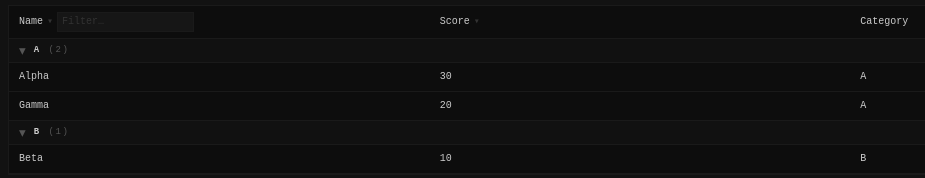
Test: DataGrid groupBy › collapses and expands groups
Check: the text "Alpha" is shown, box [9,63,430,92]
// Collapse group A
Click the 1st button "▾" at point(22, 50), box [15,43,30,58]
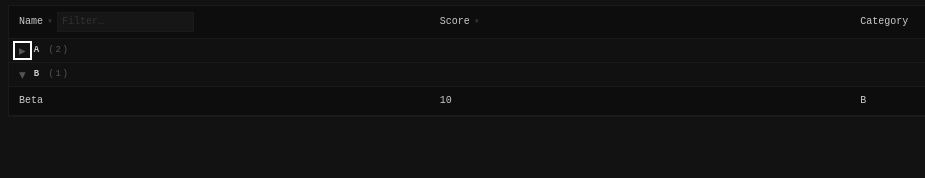
Check: the text "Alpha" is gone
